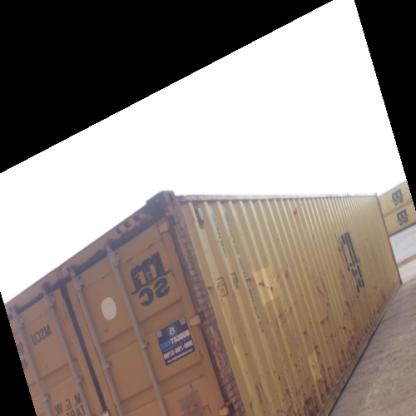Damage: (274, 361, 331, 413), (239, 271, 275, 298), (341, 319, 362, 359), (272, 296, 306, 318), (246, 378, 266, 414), (275, 258, 294, 282), (314, 270, 328, 293), (340, 296, 354, 316), (205, 277, 218, 298), (310, 339, 323, 358), (333, 233, 343, 256), (296, 322, 309, 337), (367, 302, 380, 316), (316, 310, 330, 323), (290, 202, 301, 218), (324, 294, 333, 308), (338, 268, 348, 280)
